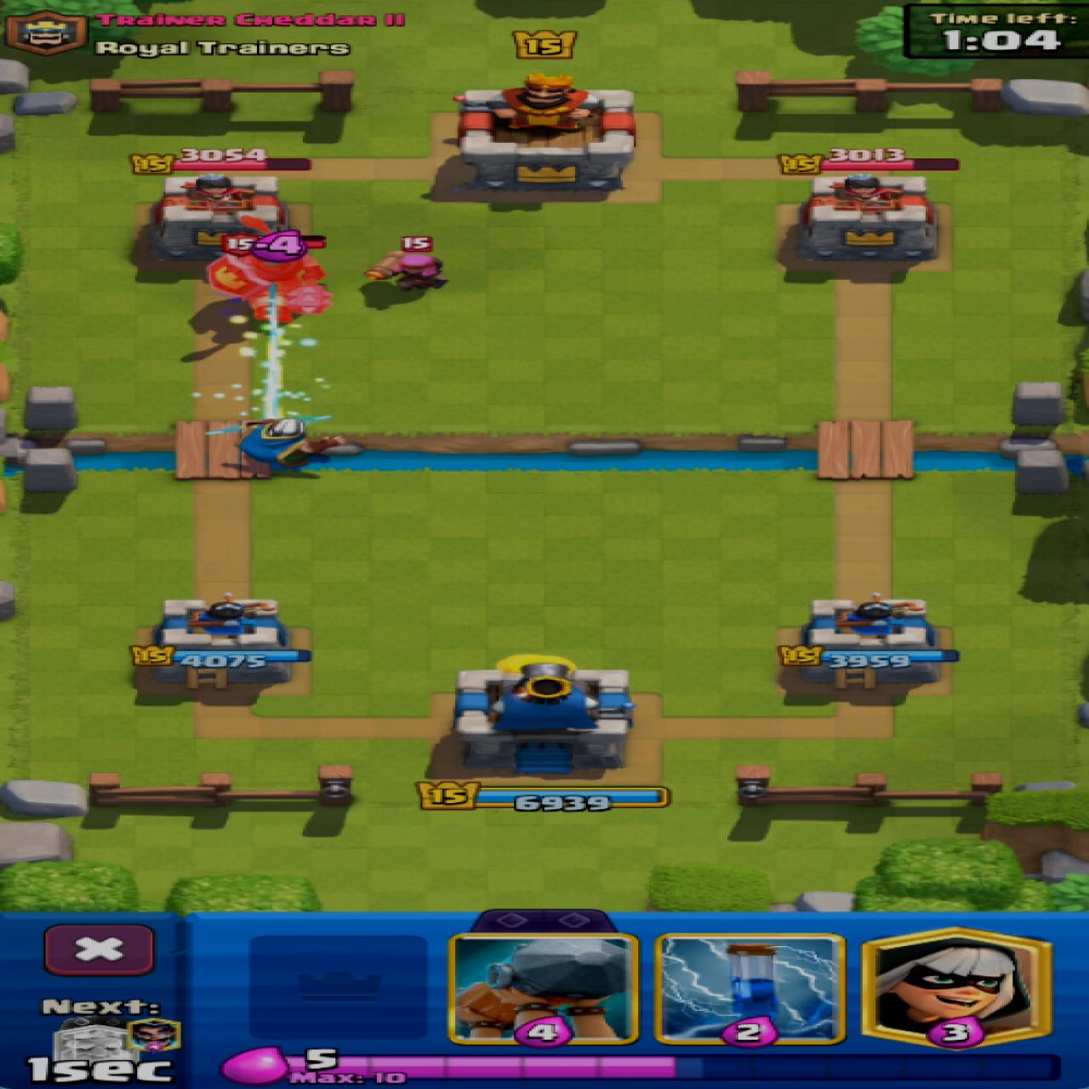Enemy-DarkPrince-Shield: (207, 230, 329, 323)
Enemy-Firecracker: (368, 253, 444, 291)
Enemy-KingTower: (460, 74, 634, 190)
Enemy-PrincessTower: (150, 174, 290, 260), (799, 173, 934, 261)
